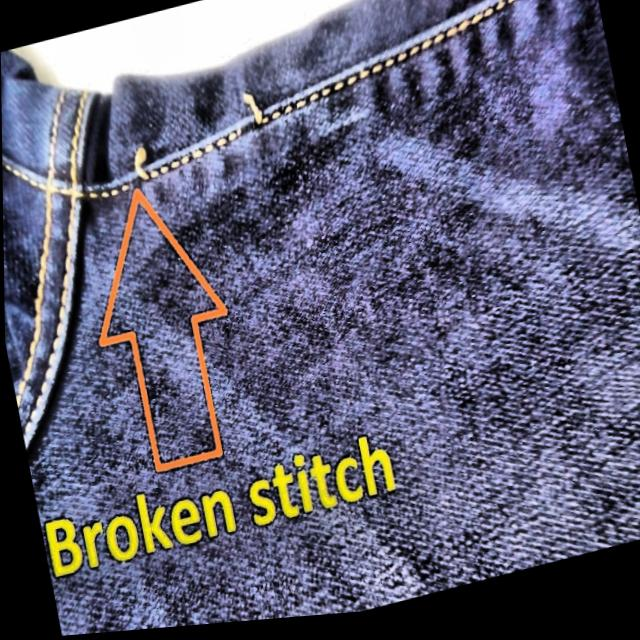Stitch: (97, 86, 284, 198)
